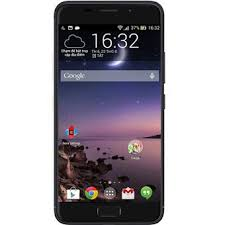asus: (51, 1, 168, 225)
